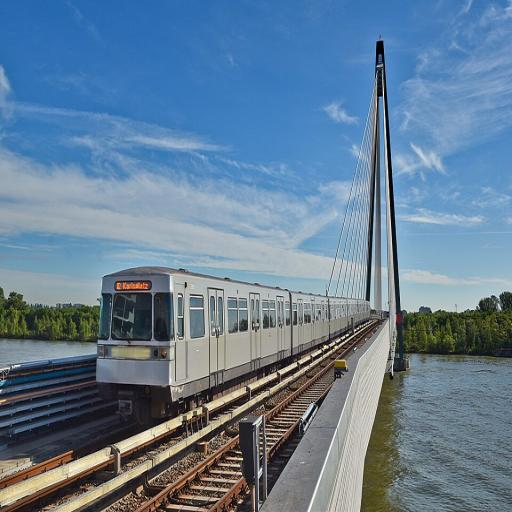Silberpfeil: (94, 261, 372, 419)
